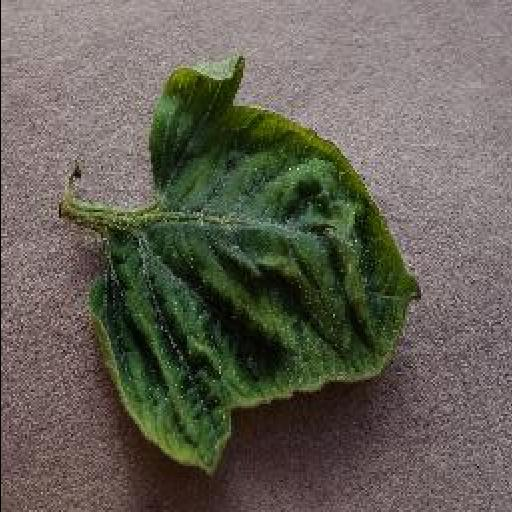disease_tomato: (88, 54, 426, 476)
